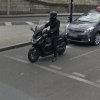Motorcycle: (22, 14, 72, 66)
